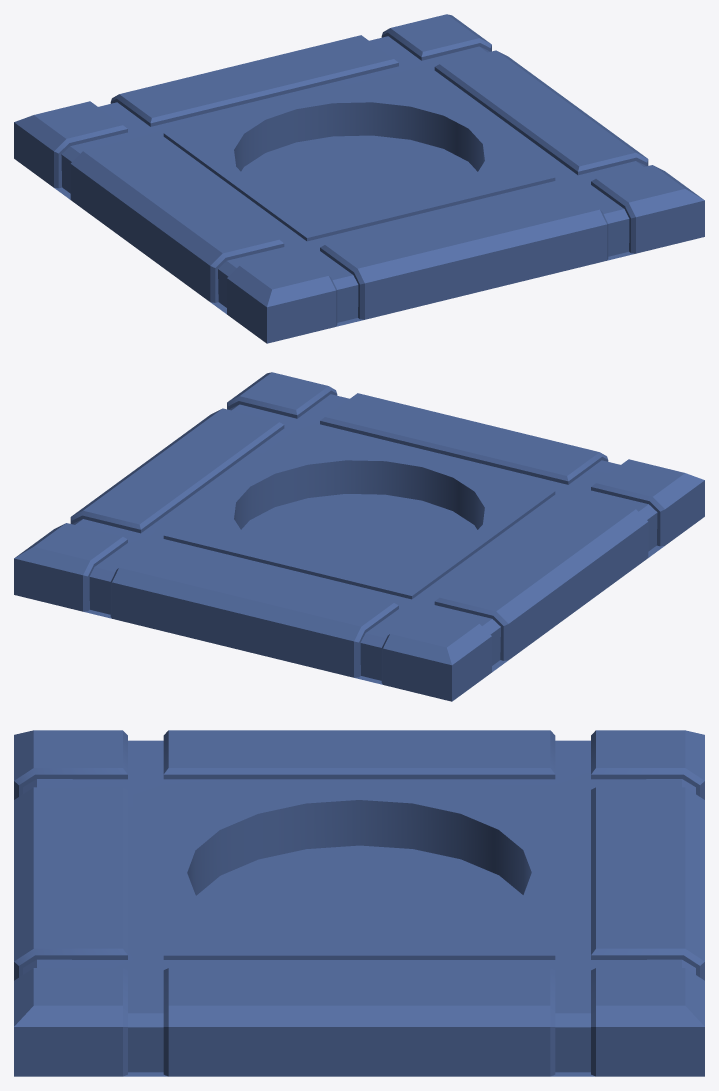
File: Floor_Trigger_02.fbx
The picture shows the model from 3 angles, top to bottom: view 1: azimuth 30°, elevation 25°; view 2: azimuth 150°, elevation 25°; view 3: azimuth 270°, elevation 25°; orthographic projection. The views are drawn at different scales.
Visible parts, largest first — view 1: Floor_Trigger_02; view 2: Floor_Trigger_02; view 3: Floor_Trigger_02.
Part boxes in pixels (x1,y1,x2,y2): Floor_Trigger_02: [14, 14, 704, 343]; Floor_Trigger_02: [14, 372, 704, 701]; Floor_Trigger_02: [14, 730, 704, 1076].
Size of the model in its own units: 160 by 16 by 160.
